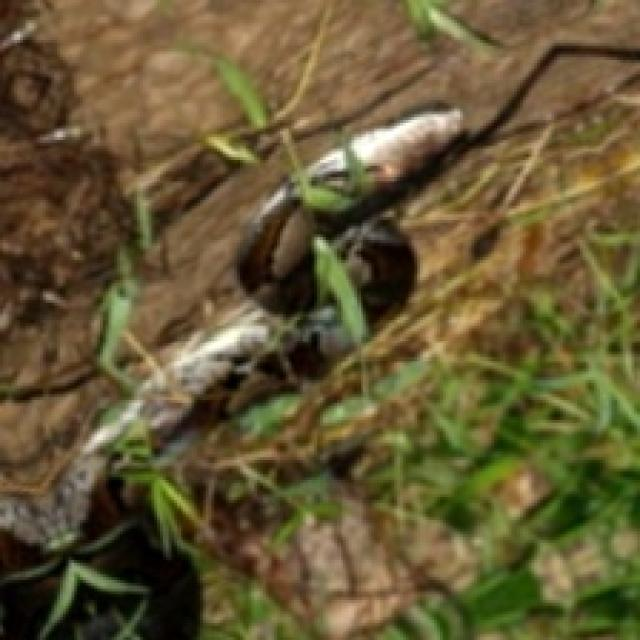reticulated python: (88, 306, 272, 451), (238, 184, 318, 314), (0, 451, 103, 546), (350, 109, 462, 181), (338, 219, 416, 321), (348, 220, 418, 322), (308, 150, 348, 178)
